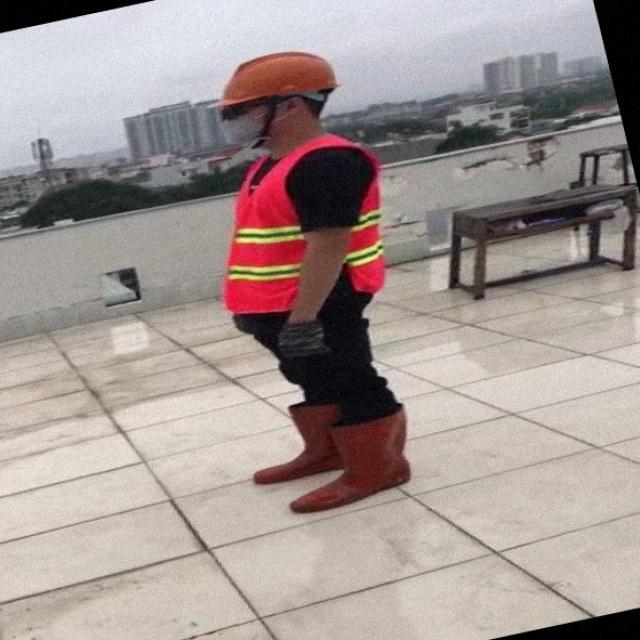helmet: (207, 42, 346, 112)
safety_vest: (216, 138, 390, 310)
